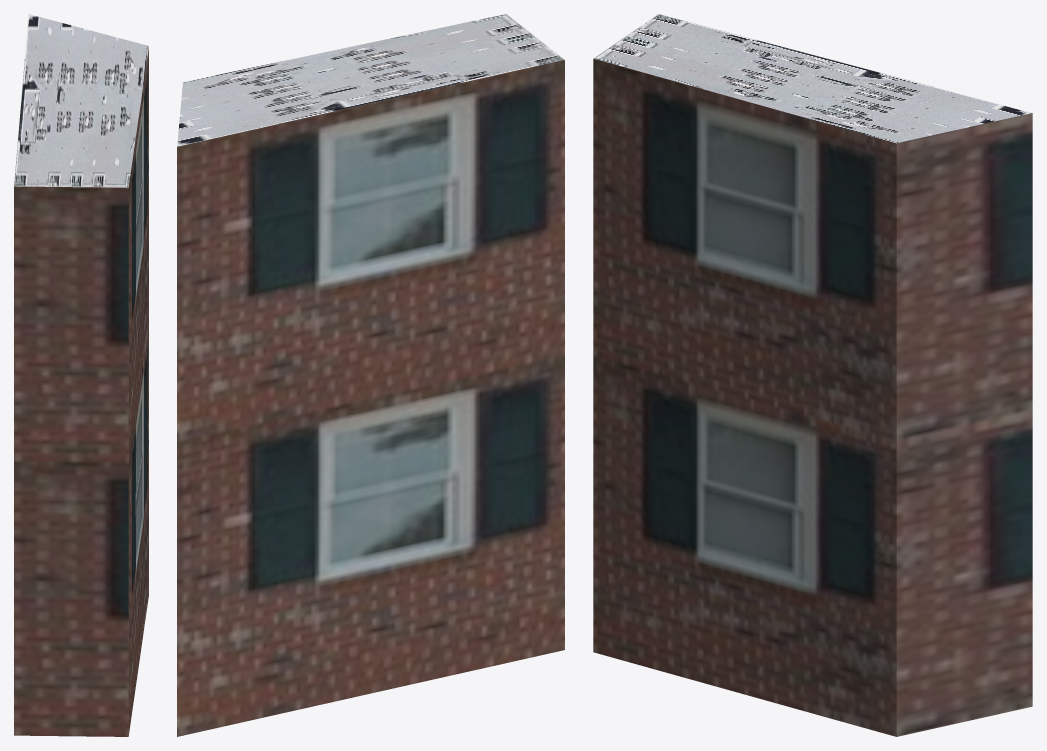
File: ResTex__4389.fbx
3 views of the same model, side by side, from view 1: azimuth 30°, elevation 25°; view 2: azimuth 150°, elevation 25°; view 3: azimuth 270°, elevation 25° (orthographic). The views are drawn at different scales.
Parts seen in each view (by area): view 1: CityEngineMaterial_14_m, CityEngineMaterial_4_m; view 2: CityEngineMaterial_14_m, CityEngineMaterial_4_m; view 3: CityEngineMaterial_14_m, CityEngineMaterial_4_m.
Part boxes in pixels (x1,y1,x2,y2): CityEngineMaterial_14_m: (14, 47, 148, 736); CityEngineMaterial_4_m: (14, 14, 148, 187); CityEngineMaterial_14_m: (177, 60, 564, 736); CityEngineMaterial_4_m: (177, 14, 564, 146); CityEngineMaterial_14_m: (593, 58, 1032, 736); CityEngineMaterial_4_m: (594, 14, 1031, 143).
Size of the model in its own units: 2.8 by 6 by 4.02.
Materials: 2 (2 with a texture image).
